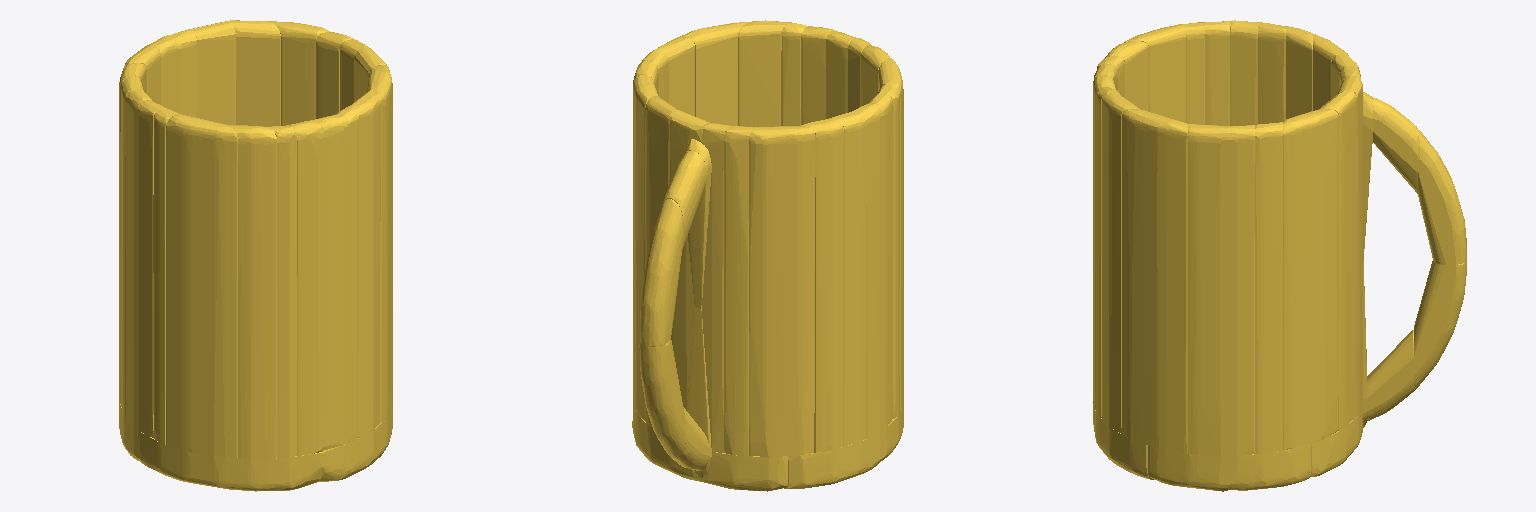
robot.urdf — 497.urdf:
<?xml version="1.0" ?>
<robot name="497.urdf">
	<link name="baseLink">
		<inertial>
			<origin rpy="0 0 0" xyz="0 0 0"/>
				<mass value="0.1"/>
				<inertia ixx="6e-5" ixy="0" ixz="0" iyy="6e-5" iyz="0" izz="6e-5"/>
		</inertial>
		<visual>
			<origin rpy="0 0 0" xyz="0 0 0"/>
			<geometry>
				<mesh filename="4_decom_wt.obj" scale="0.84 0.84 0.96"/>
			</geometry>
			<material name="yellow">
				<color rgba="0.98 0.84 0.35 1"/>
			</material>
		</visual>
		<collision>
			<origin rpy="0 0 0" xyz="0 0 0"/>
			<geometry>
				<mesh filename="4_decom_wt.obj" scale="0.84 0.84 0.96"/>
			</geometry>
		</collision>
	</link>
</robot>

--- Facts derived from the render (not from the file) ---
Views: 3 orthographic renders of the robot side by side, from view 1: azimuth 30°, elevation 25°; view 2: azimuth 150°, elevation 25°; view 3: azimuth 270°, elevation 25°.
Model 497.urdf with 1 links and 0 joints (none), rooted at baseLink, posed every joint at zero.
Links seen in each view (by area): view 1: baseLink; view 2: baseLink; view 3: baseLink.
Link boxes in pixels (x1,y1,x2,y2): baseLink: (119, 20, 392, 491); baseLink: (632, 20, 903, 491); baseLink: (1093, 20, 1466, 491).
Size in the robot's own frame: 0.0704 by 0.0976 by 0.1043 metres.
Meshes: 1 distinct files referenced, 1 mesh visuals loaded (1 OBJ).